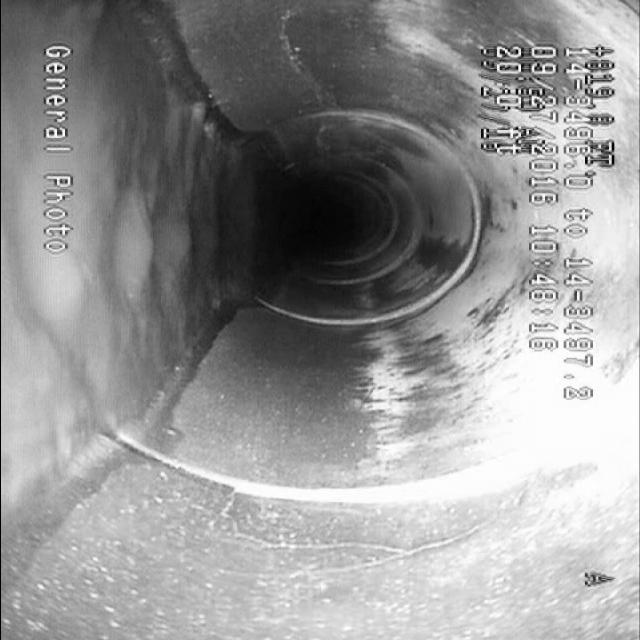Crack: (213, 492, 539, 594)
